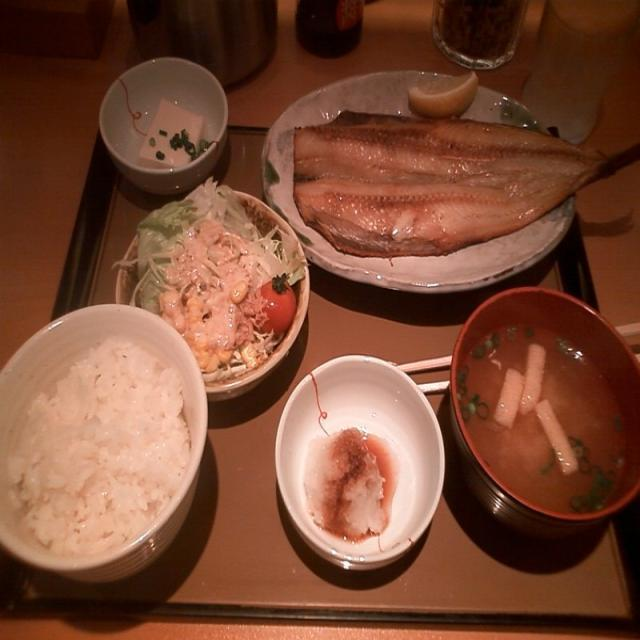Rice: (0, 331, 189, 563)
